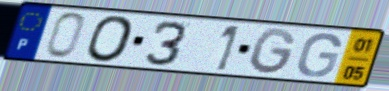0: (43, 10, 91, 61)
1: (216, 24, 243, 72)
3: (144, 19, 190, 67)
G: (248, 26, 299, 76), (295, 32, 344, 79)
O: (85, 14, 137, 64)
